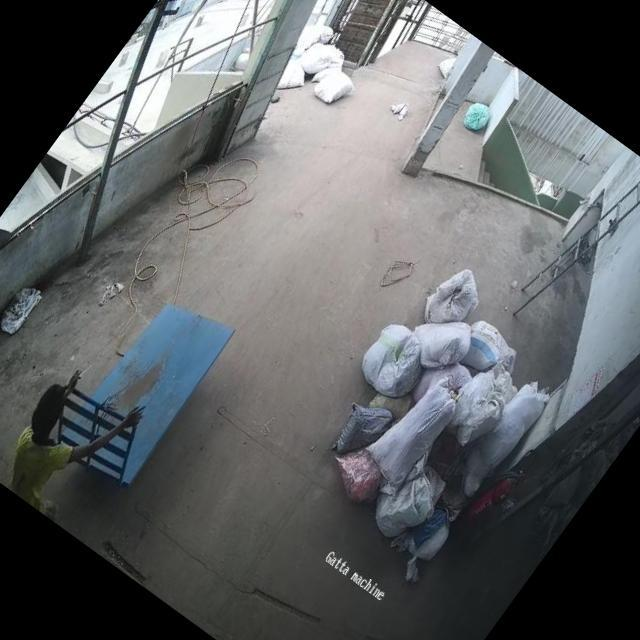person: (0, 375, 111, 512)
